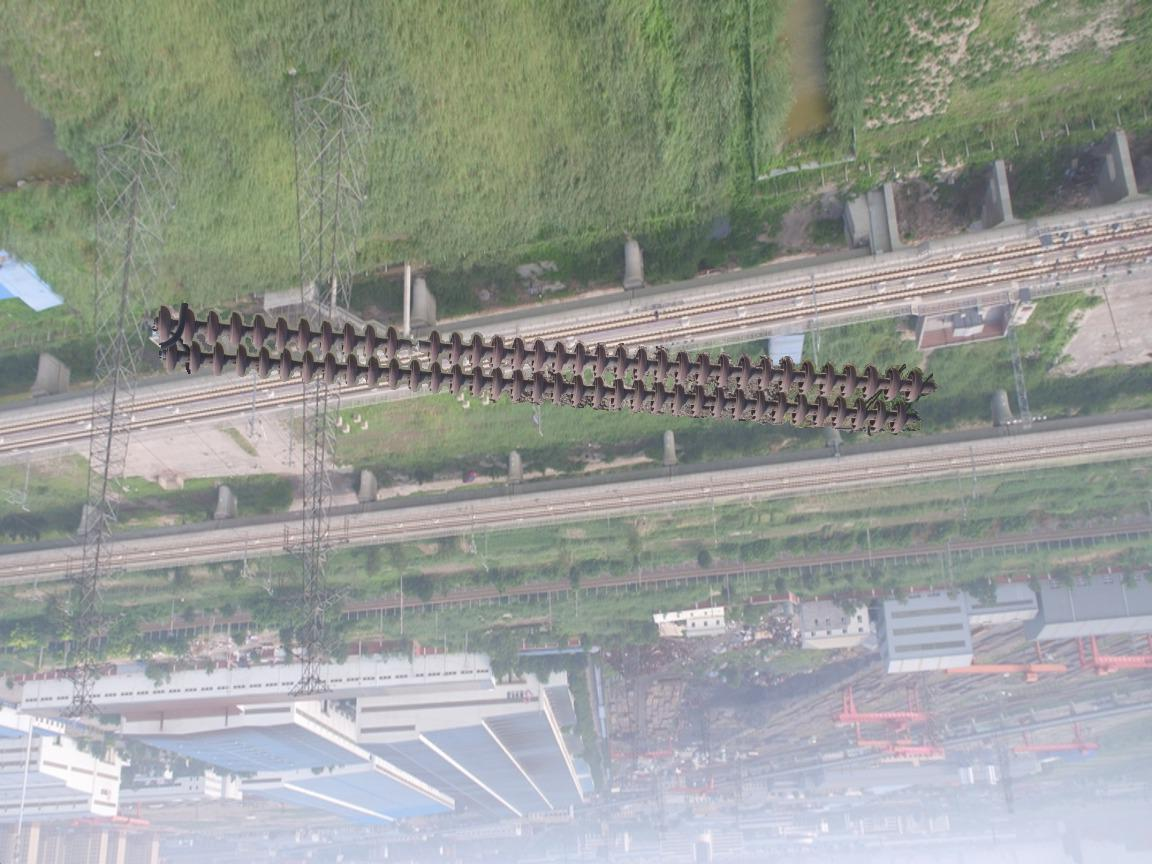insulator: (150, 303, 941, 439)
insulator_stringdrop: (381, 325, 444, 366)
